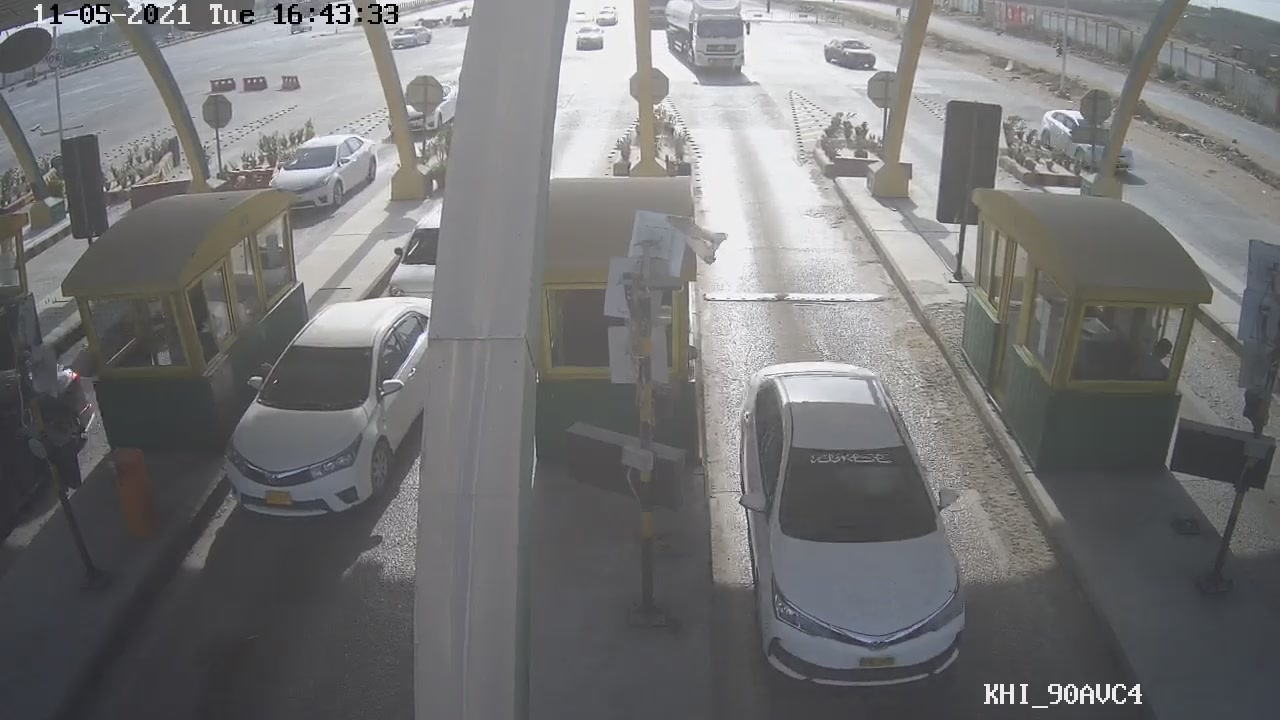F1: (731, 357, 972, 692)
